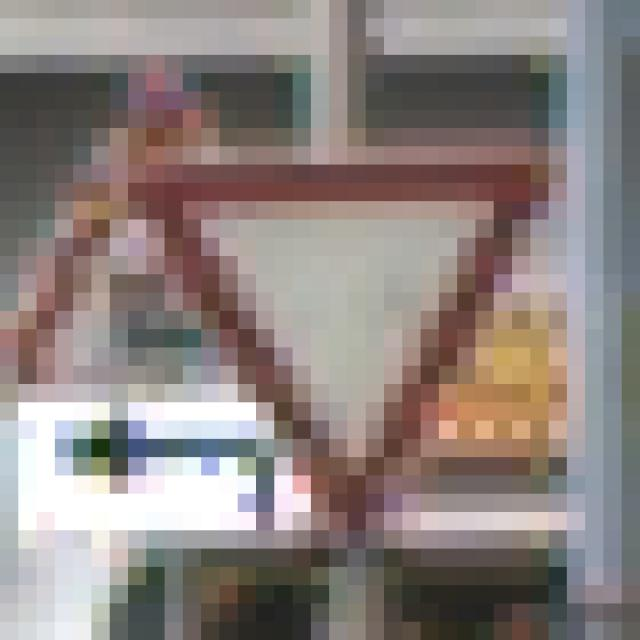Give Way: (93, 111, 550, 550)
